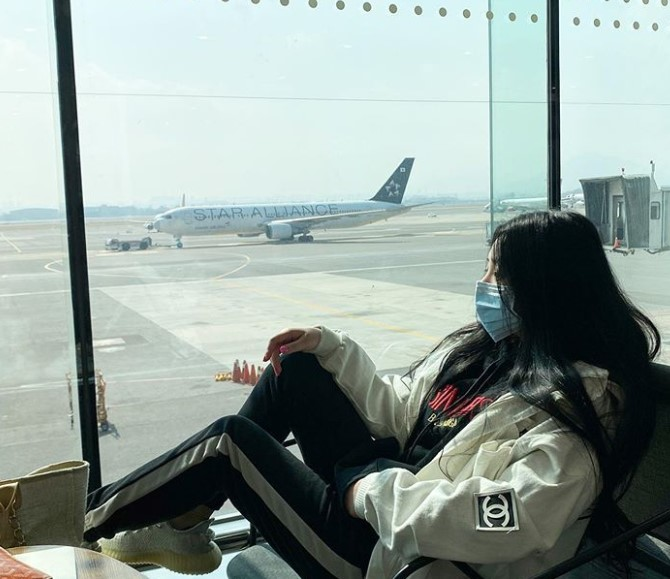face_with_mask: (473, 213, 579, 349)
